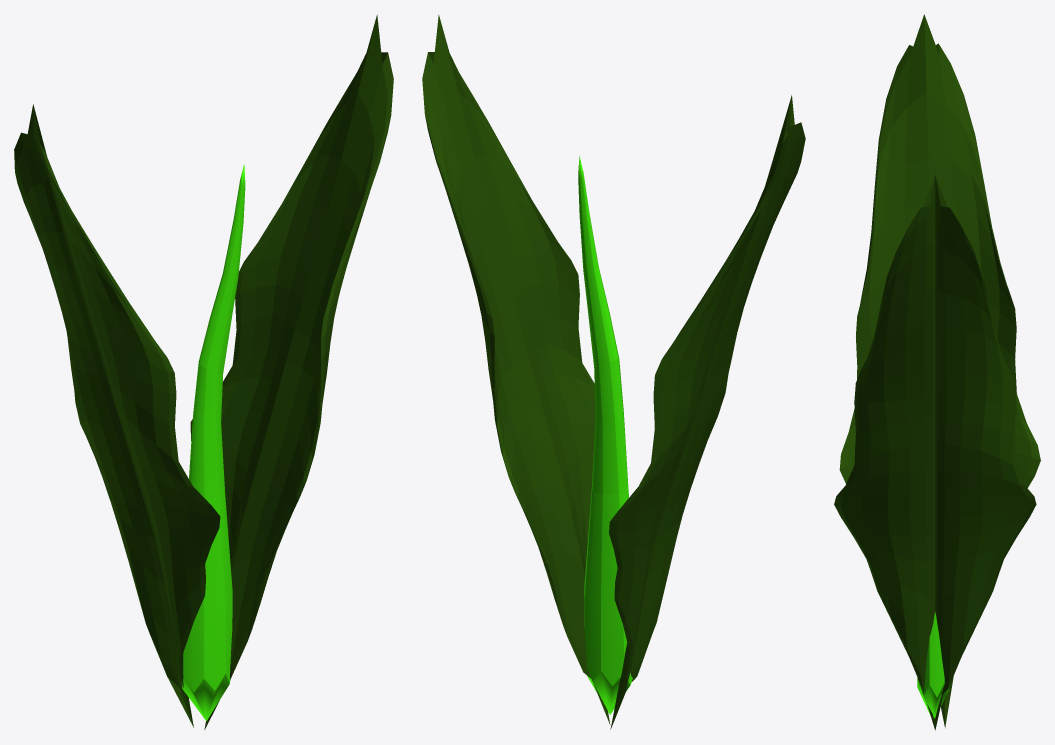
File: daisy growth sdm.fbx
3 renders of one model, left to right at view 1: azimuth 30°, elevation 25°; view 2: azimuth 150°, elevation 25°; view 3: azimuth 270°, elevation 25°, orthographic. The views are drawn at different scales.
Visible parts, largest first — view 1: Plane.001, Plane.013, Cylinder.003; view 2: Plane.001, Plane.013, Cylinder.003; view 3: Plane.001, Plane.013, Cylinder.003.
Boxes of the visible parts, x1,y1,x2,y2 form: Plane.001: [190, 14, 393, 730]; Plane.013: [14, 104, 220, 727]; Cylinder.003: [181, 164, 245, 720]; Plane.001: [422, 14, 610, 724]; Plane.013: [609, 95, 805, 729]; Cylinder.003: [578, 156, 632, 714]; Plane.001: [834, 175, 1036, 730]; Plane.013: [839, 14, 1040, 728]; Cylinder.003: [917, 612, 948, 718].
Size of the model in its own units: 109 by 197 by 57.96.
